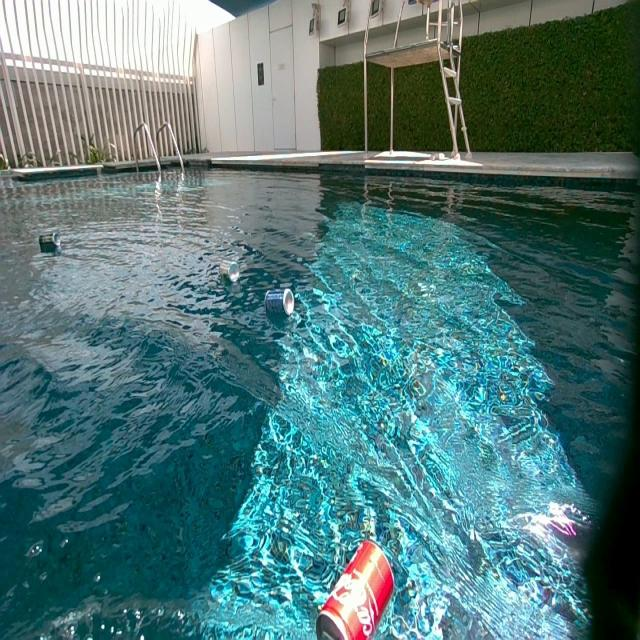Cans: (315, 537, 398, 637), (265, 290, 294, 318), (38, 231, 60, 251), (223, 263, 240, 284)
